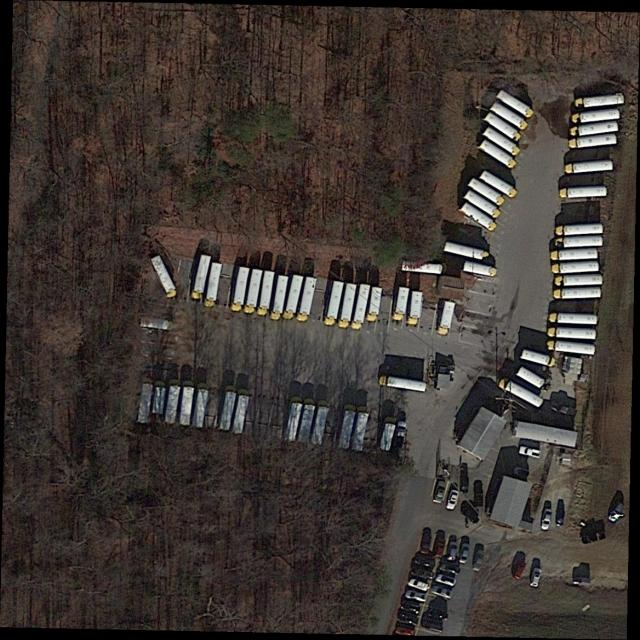large-vehicle: (498, 376, 545, 408), (150, 253, 179, 299), (495, 88, 536, 120), (478, 138, 516, 171), (466, 177, 505, 208), (460, 202, 499, 232), (490, 100, 529, 130), (483, 113, 523, 142), (464, 191, 503, 220), (479, 170, 518, 199), (482, 127, 521, 156), (230, 389, 253, 436), (443, 241, 492, 263), (351, 283, 373, 330), (324, 281, 347, 325), (283, 274, 305, 320), (284, 398, 306, 444), (191, 254, 212, 302), (310, 402, 332, 447), (296, 277, 317, 322), (269, 276, 290, 321), (243, 269, 264, 314), (230, 266, 250, 313), (135, 378, 155, 425), (191, 384, 212, 428), (218, 388, 239, 432), (296, 400, 317, 444), (399, 258, 450, 276), (379, 374, 427, 393), (339, 283, 359, 327), (571, 107, 622, 124), (571, 120, 620, 137), (575, 92, 624, 109), (338, 407, 357, 450), (353, 409, 372, 452), (568, 136, 619, 152), (547, 339, 598, 355), (205, 262, 222, 308), (258, 270, 275, 315), (560, 185, 609, 200), (366, 285, 385, 323), (549, 312, 600, 326), (164, 382, 180, 426), (551, 262, 601, 276), (564, 160, 613, 174), (379, 418, 399, 452), (180, 384, 196, 426), (520, 349, 557, 367), (138, 315, 175, 333), (436, 301, 456, 334), (407, 292, 426, 326), (556, 223, 605, 236), (553, 289, 602, 302), (548, 327, 597, 340), (550, 248, 598, 261), (465, 261, 498, 279), (556, 237, 604, 249), (393, 287, 409, 322), (152, 386, 167, 416), (557, 276, 605, 285)
small-vehicle: (431, 479, 449, 505), (517, 443, 545, 459), (425, 605, 449, 623), (407, 576, 432, 593), (420, 618, 445, 635), (444, 487, 461, 512), (510, 560, 529, 582), (404, 588, 428, 605), (395, 612, 422, 627), (539, 507, 555, 532), (408, 565, 434, 580), (460, 506, 481, 524), (456, 542, 472, 565), (471, 549, 486, 573), (399, 600, 423, 615), (608, 502, 626, 522), (437, 563, 462, 577), (432, 535, 447, 558), (435, 574, 458, 589), (528, 566, 543, 589), (431, 585, 454, 600), (412, 556, 435, 569), (420, 532, 433, 554), (447, 540, 459, 561), (554, 507, 567, 526), (474, 486, 484, 509), (462, 474, 470, 494)
